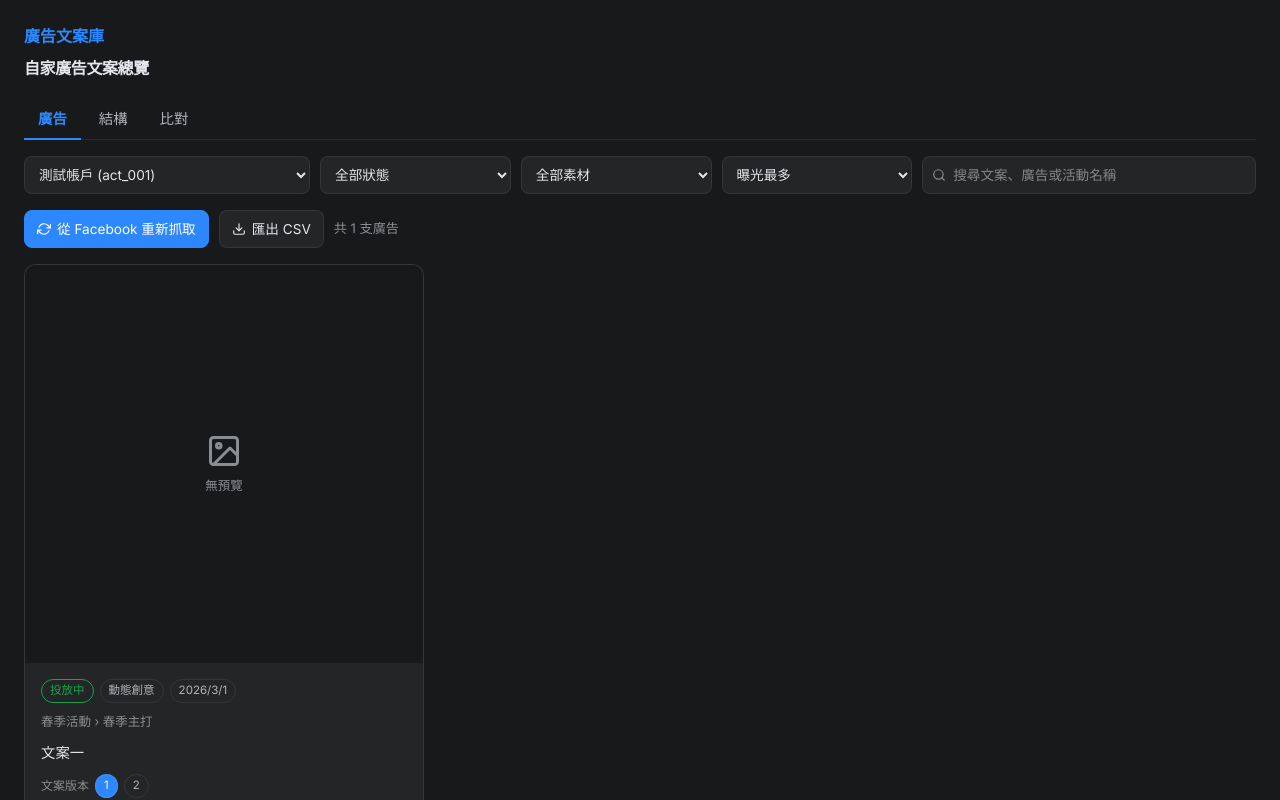
Test: AdLibrary › renders ad cards and switches dynamic creative variants
Expected: the text "文案一" is shown, [41, 744, 84, 761]
Click the button "2" at (136, 786), box [124, 774, 149, 798]
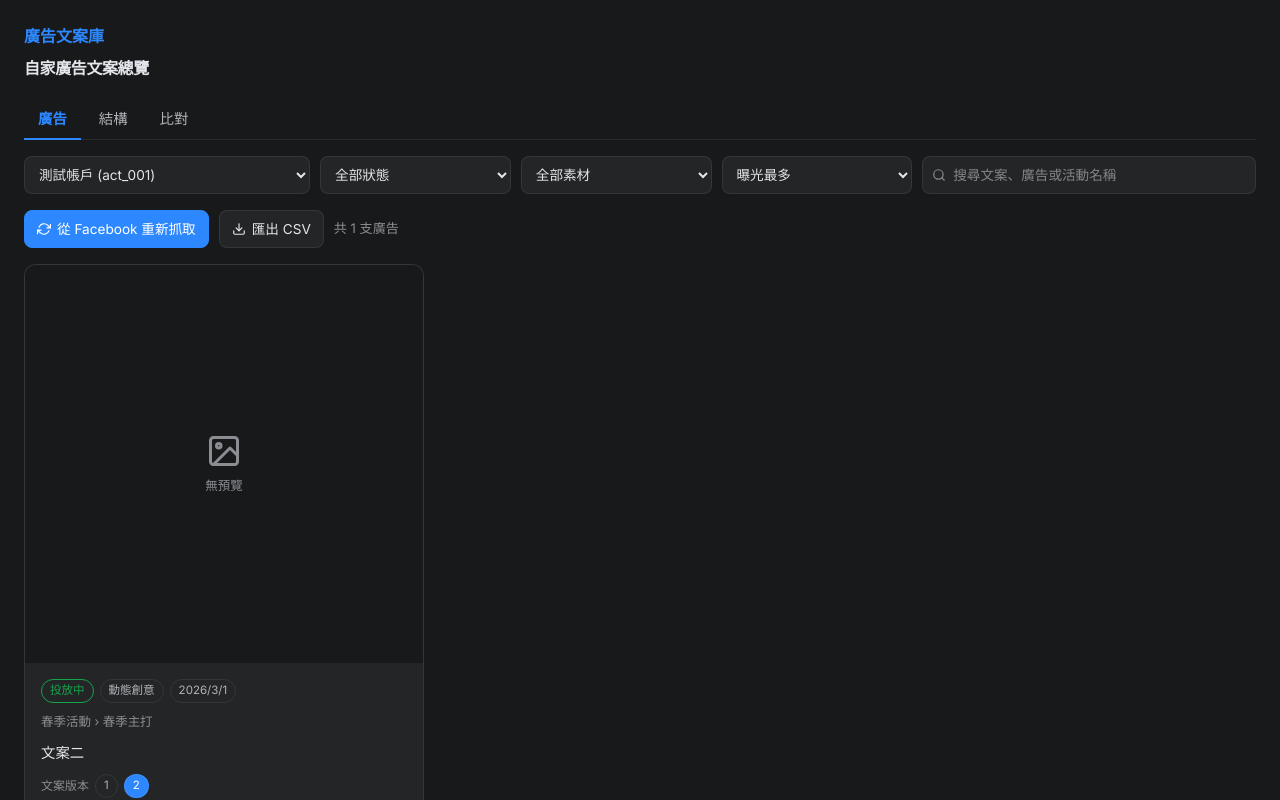
Now the text "文案二" is shown, box [41, 744, 84, 761]
